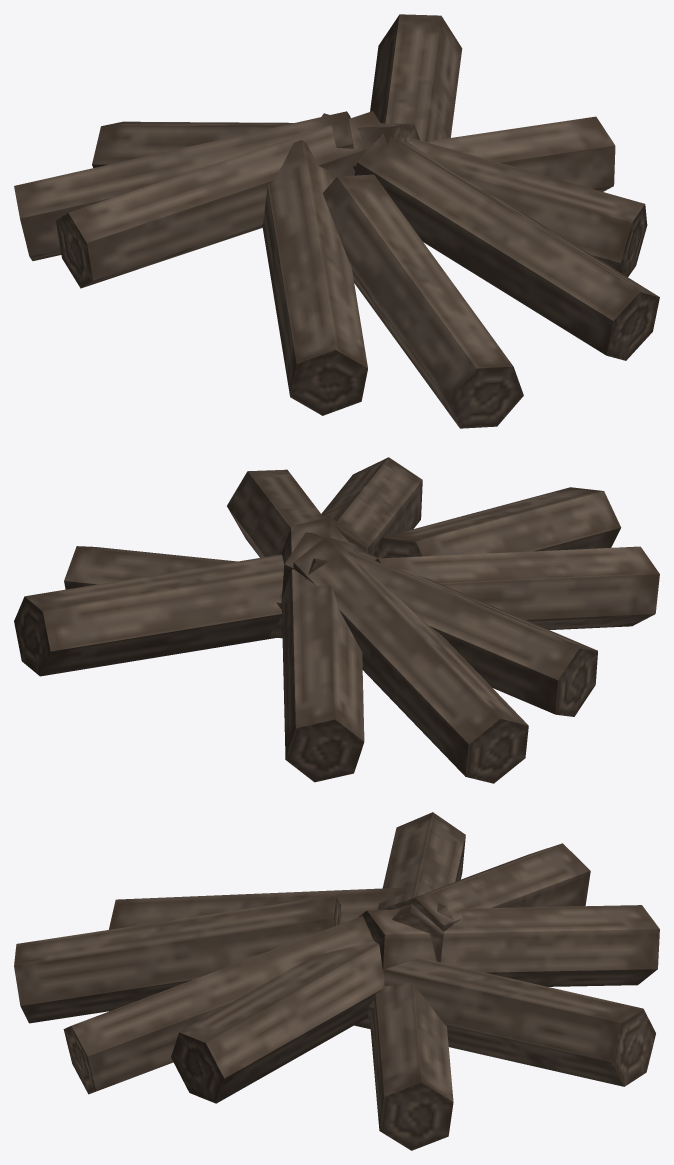
File: Fire_woodLog.fbx
The picture shows the model from 3 angles, top to bottom: view 1: azimuth 30°, elevation 25°; view 2: azimuth 150°, elevation 25°; view 3: azimuth 270°, elevation 25°; orthographic projection. The views are drawn at different scales.
Visible parts, largest first — view 1: pCylinder20, pCylinder20.003, pCylinder20.004, pCylinder20.002, pCylinder20.008, pCylinder20.001, pCylinder20.007, pCylinder20.006, pCylinder20.005; view 2: pCylinder20.007, pCylinder20.008, pCylinder20.002, pCylinder20.005, pCylinder20.004, pCylinder20.003, pCylinder20, pCylinder20.001, pCylinder20.006; view 3: pCylinder20.003, pCylinder20.007, pCylinder20.005, pCylinder20.001, pCylinder20, pCylinder20.006, pCylinder20.008, pCylinder20.004, pCylinder20.002.
Boxes of the visible parts, box(x1,y1,x2,y2) form: pCylinder20: box(354, 134, 659, 360); pCylinder20.003: box(322, 174, 523, 428); pCylinder20.004: box(56, 111, 381, 288); pCylinder20.002: box(262, 140, 367, 415); pCylinder20.008: box(14, 111, 353, 260); pCylinder20.001: box(321, 113, 647, 276); pCylinder20.007: box(370, 14, 462, 142); pCylinder20.006: box(429, 116, 615, 191); pCylinder20.005: box(92, 121, 420, 170); pCylinder20.007: box(14, 554, 284, 676); pCylinder20.008: box(293, 536, 528, 783); pCylinder20.002: box(375, 546, 659, 629); pCylinder20.005: box(281, 517, 364, 782); pCylinder20.004: box(282, 532, 597, 716); pCylinder20.003: box(373, 487, 621, 558); pCylinder20: box(321, 457, 422, 554); pCylinder20.001: box(227, 469, 328, 579); pCylinder20.006: box(64, 546, 282, 638); pCylinder20.003: box(14, 895, 341, 1023); pCylinder20.007: box(354, 958, 655, 1086); pCylinder20.005: box(358, 905, 659, 986); pCylinder20.001: box(171, 903, 455, 1103); pCylinder20: box(63, 916, 373, 1094); pCylinder20.006: box(370, 982, 453, 1150); pCylinder20.008: box(382, 843, 590, 931); pCylinder20.004: box(377, 812, 465, 962); pCylinder20.002: box(109, 887, 410, 929).
Bounding box in the file's own units: 941 × 270 × 1050.
